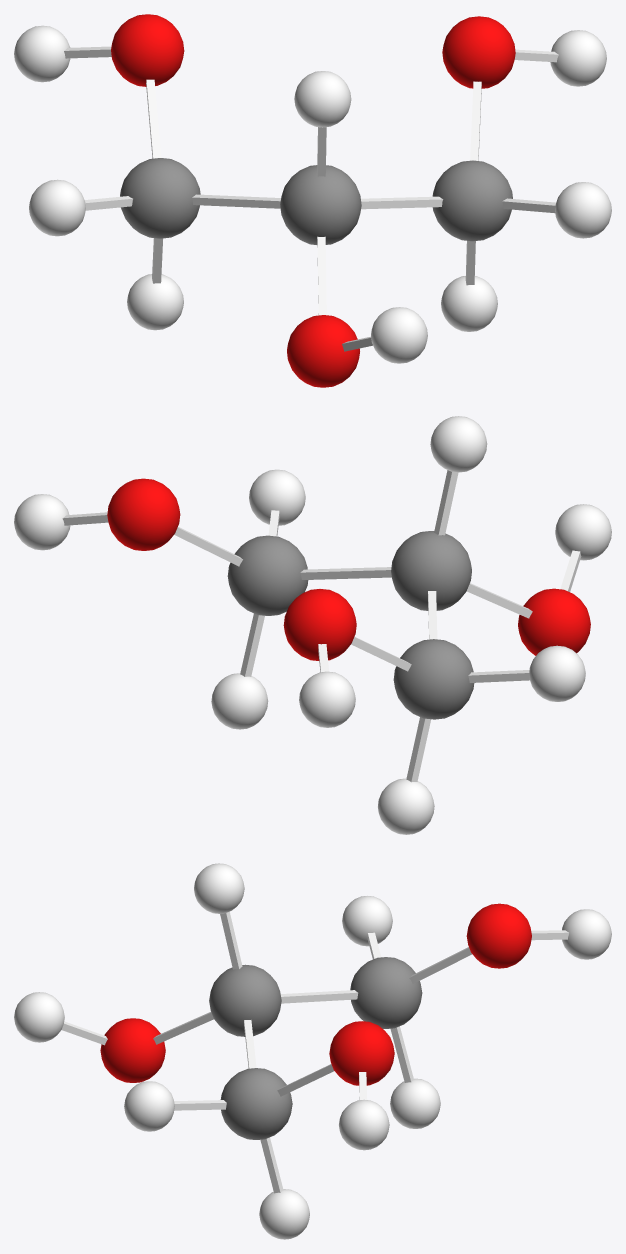
File: glycerine_scale.glb
3 views of the same model, one above another, from view 1: azimuth 30°, elevation 25°; view 2: azimuth 150°, elevation 25°; view 3: azimuth 270°, elevation 25° (orthographic). The views are drawn at different scales.
Visible parts, largest first — view 1: nodes[2], nodes[1], nodes[5], nodes[0], nodes[6], nodes[10], nodes[13], nodes[3], nodes[9], nodes[7], nodes[12], nodes[11] (+10 smaller); view 2: nodes[5], nodes[2], nodes[1], nodes[0], nodes[6], nodes[10], nodes[12], nodes[9], nodes[7], nodes[4], nodes[8], nodes[11] (+10 smaller); view 3: nodes[1], nodes[2], nodes[5], nodes[6], nodes[0], nodes[10], nodes[3], nodes[9], nodes[13], nodes[11], nodes[4], nodes[8] (+10 smaller).
Boxes of the visible parts, x1,y1,x2,y2 form: nodes[2]: (280, 165, 361, 244); nodes[1]: (432, 160, 512, 241); nodes[5]: (120, 158, 200, 238); nodes[0]: (442, 16, 515, 88); nodes[6]: (111, 14, 184, 86); nodes[10]: (287, 315, 359, 387); nodes[13]: (371, 307, 427, 363); nodes[3]: (555, 182, 611, 238); nodes[9]: (294, 71, 351, 127); nodes[7]: (29, 179, 85, 236); nodes[12]: (14, 25, 70, 82); nodes[11]: (550, 30, 606, 86); nodes[5]: (393, 639, 474, 719); nodes[2]: (391, 531, 471, 610); nodes[1]: (227, 535, 308, 615); nodes[0]: (107, 478, 180, 550); nodes[6]: (283, 589, 356, 660); nodes[10]: (518, 588, 590, 655); nodes[12]: (299, 671, 355, 727); nodes[9]: (430, 416, 487, 472); nodes[7]: (529, 645, 585, 701); nodes[4]: (211, 673, 268, 729); nodes[8]: (378, 778, 434, 834); nodes[11]: (14, 494, 70, 550); nodes[1]: (220, 1068, 292, 1139); nodes[2]: (209, 964, 281, 1036); nodes[5]: (350, 957, 422, 1028); nodes[6]: (466, 903, 531, 968); nodes[0]: (329, 1021, 394, 1085); nodes[10]: (100, 1018, 165, 1082); nodes[3]: (124, 1081, 174, 1131); nodes[9]: (194, 863, 244, 913); nodes[13]: (14, 992, 64, 1042); nodes[11]: (339, 1099, 389, 1150); nodes[4]: (259, 1189, 309, 1239); nodes[8]: (390, 1078, 440, 1128).
Bounding box in the file's own units: 0.3158 × 0.174 × 0.3229.
